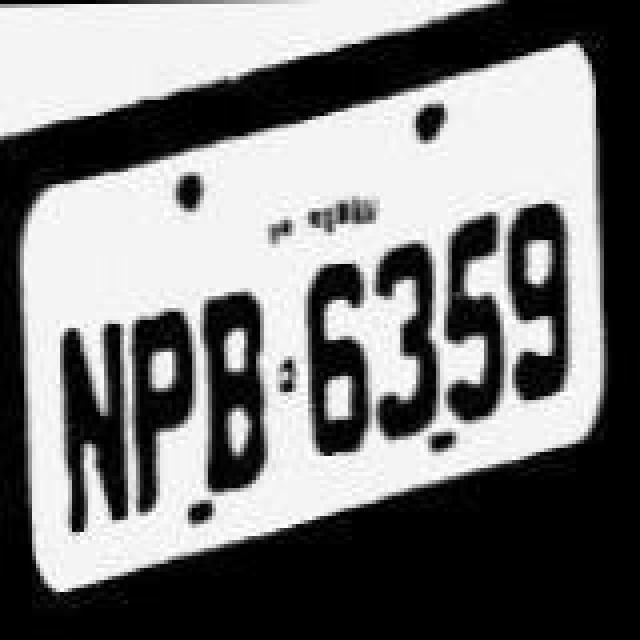3: (366, 224, 446, 444)
5: (438, 206, 510, 430)
6: (302, 246, 374, 498)
9: (504, 198, 580, 418)
B: (202, 272, 278, 500)
N: (56, 260, 128, 548)
P: (130, 244, 206, 512)
